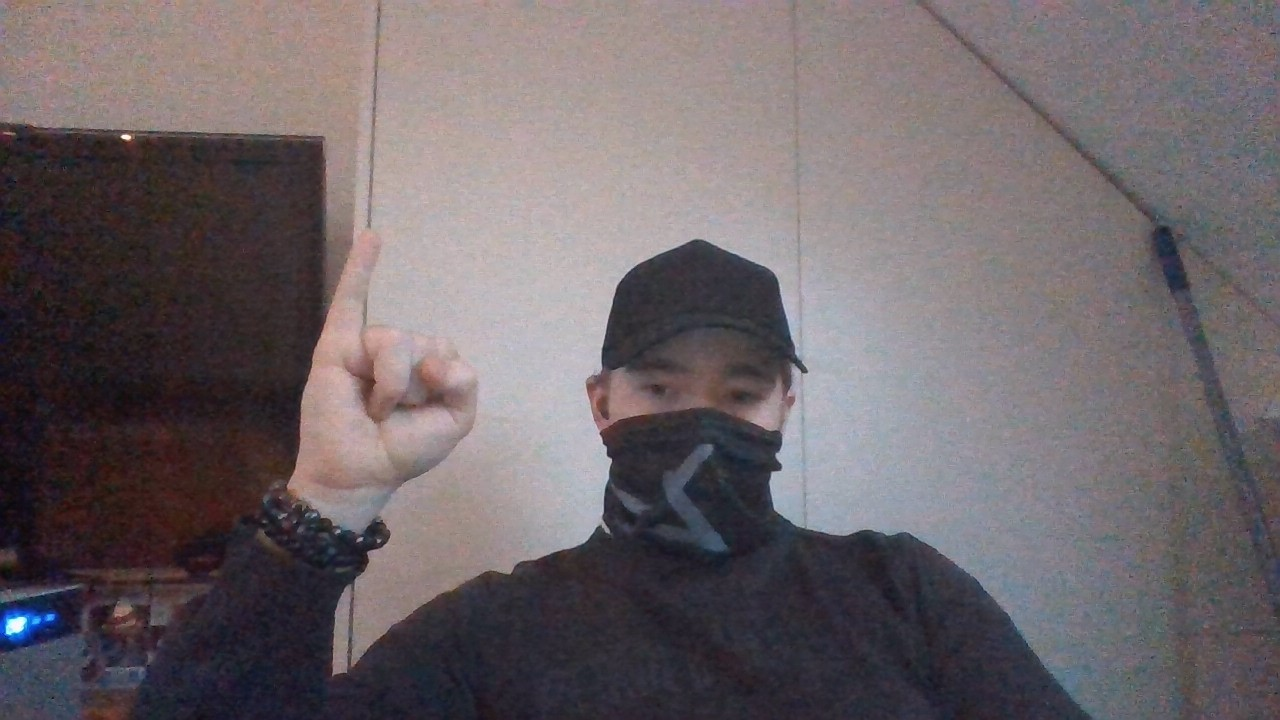I" Sign language: (291, 224, 487, 494)
